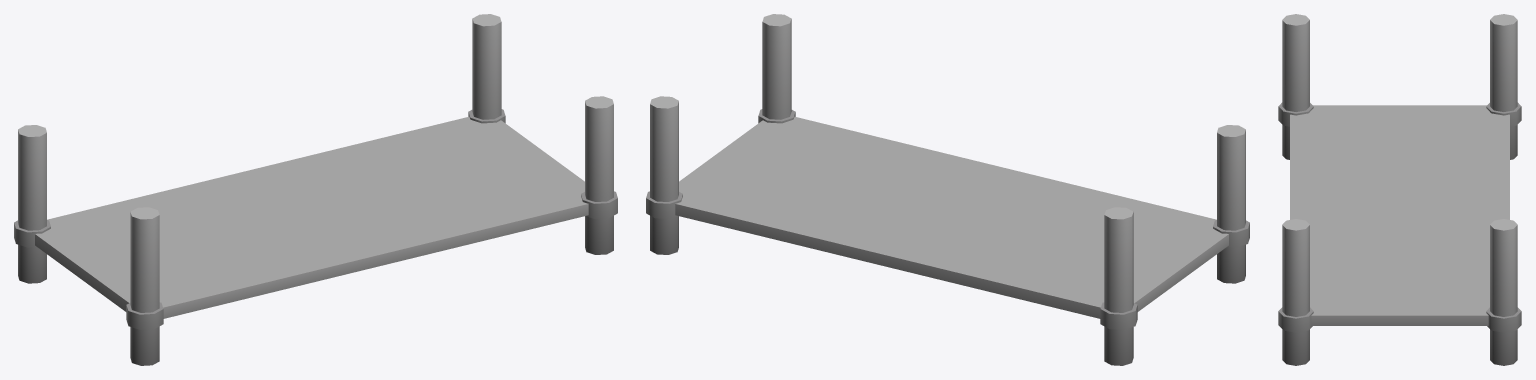
The model's file is Table_Leg_01_D.fbx.
3 renders of one model, left to right at view 1: azimuth 30°, elevation 25°; view 2: azimuth 150°, elevation 25°; view 3: azimuth 270°, elevation 25°, orthographic. The views are drawn at different scales.
Parts seen in each view (by area): view 1: Table_Leg_01_D; view 2: Table_Leg_01_D; view 3: Table_Leg_01_D.
Part boxes in pixels (x1,y1,x2,y2): Table_Leg_01_D: (14, 14, 617, 365); Table_Leg_01_D: (646, 14, 1249, 365); Table_Leg_01_D: (1278, 14, 1521, 365).
Bounding box in the file's own units: 188 × 53.91 × 87.78.
